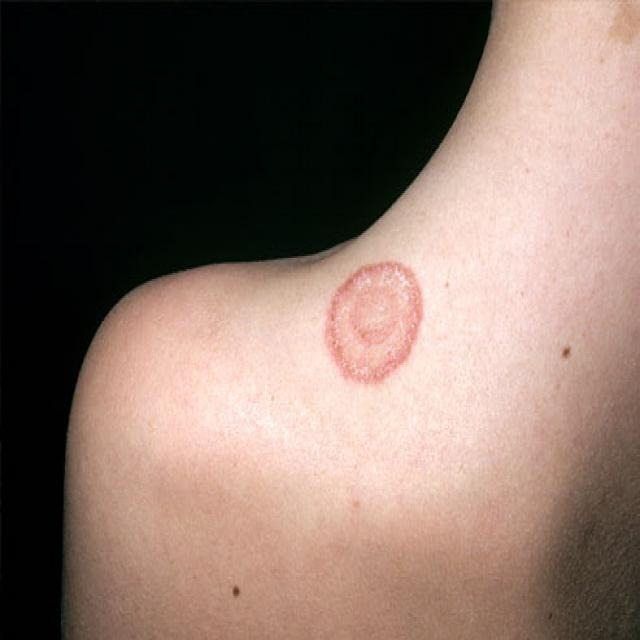Ringworm: (323, 250, 435, 390)
